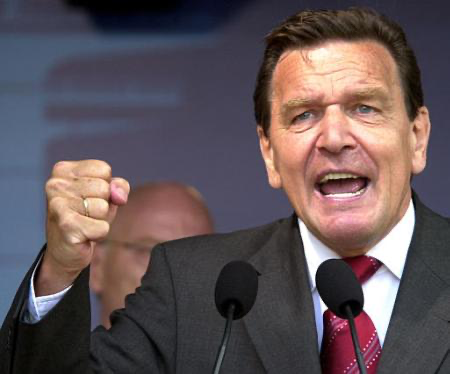Face: (260, 67, 413, 232), (105, 190, 218, 314)
